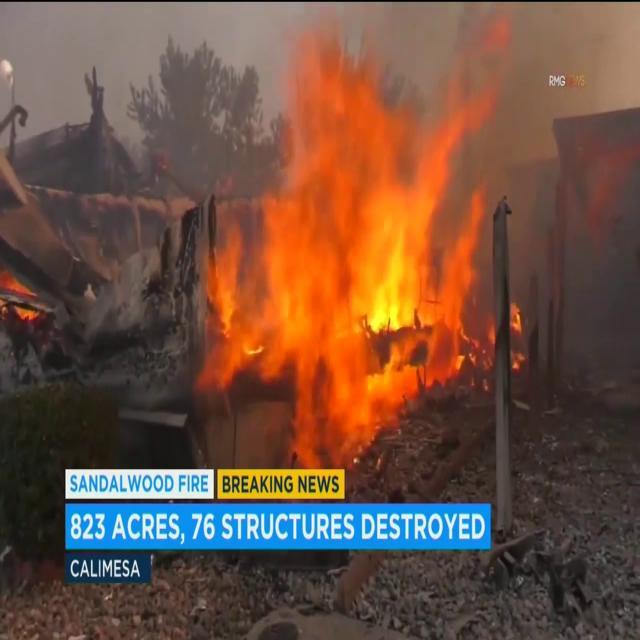Fire: (196, 17, 497, 451)
Smoke: (464, 2, 640, 411)
